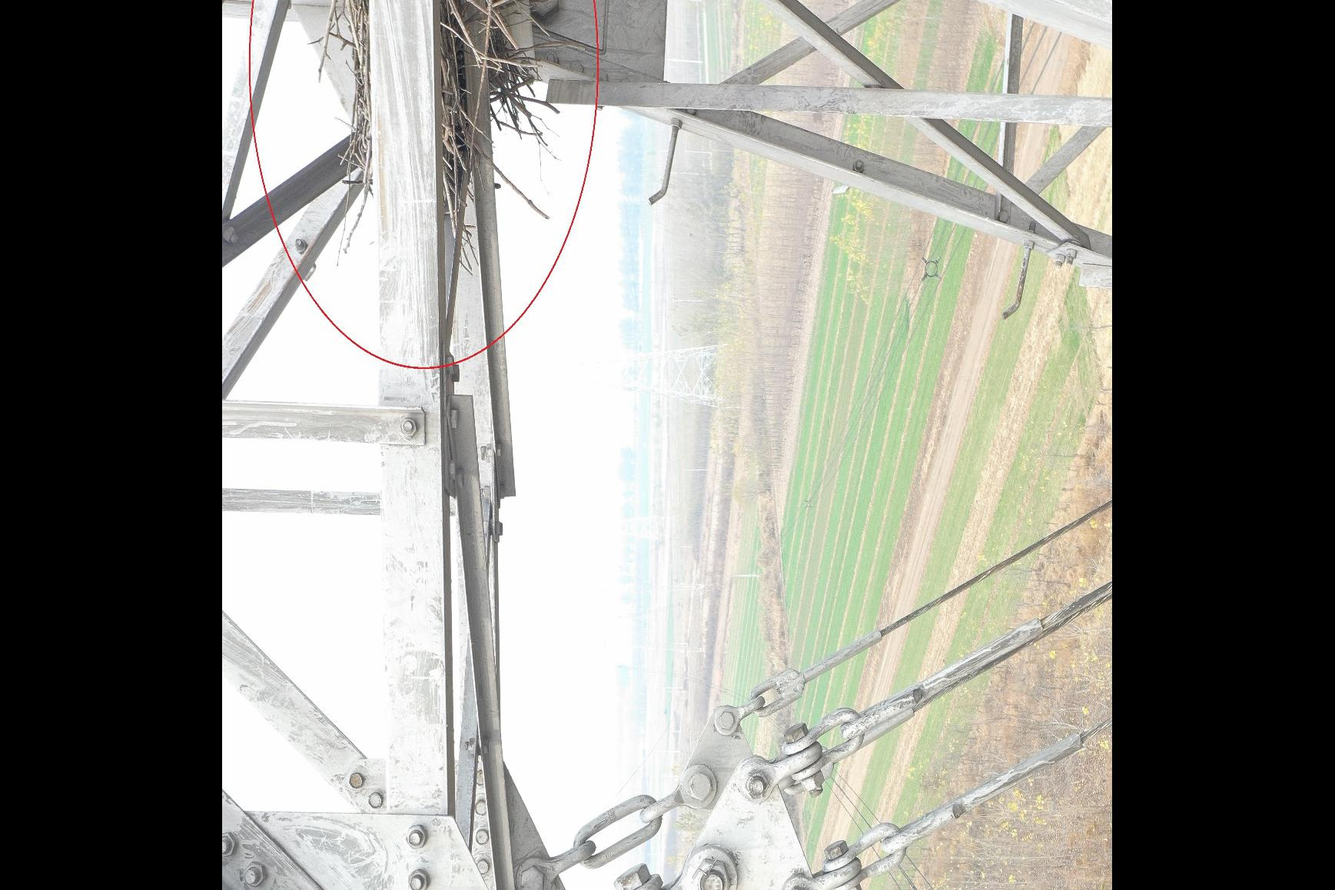nest: (317, 1, 547, 247)
